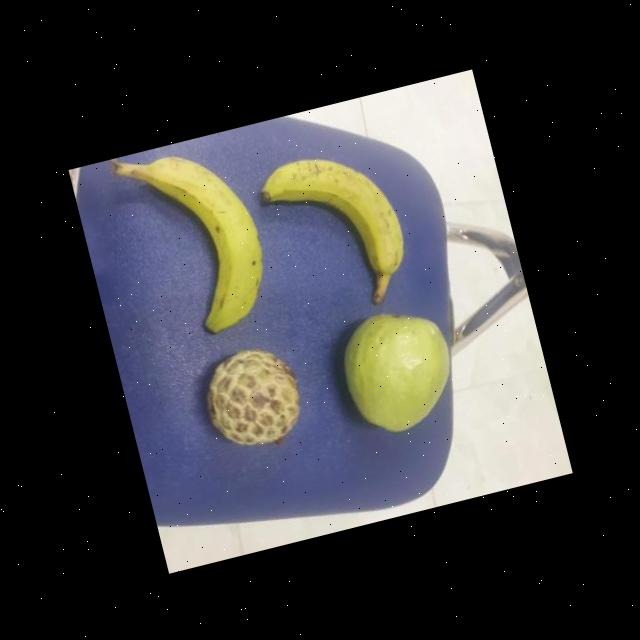Sakya fruit: (195, 339, 312, 464)
banana: (122, 138, 278, 352), (253, 140, 418, 330)
guava: (333, 297, 469, 442)
